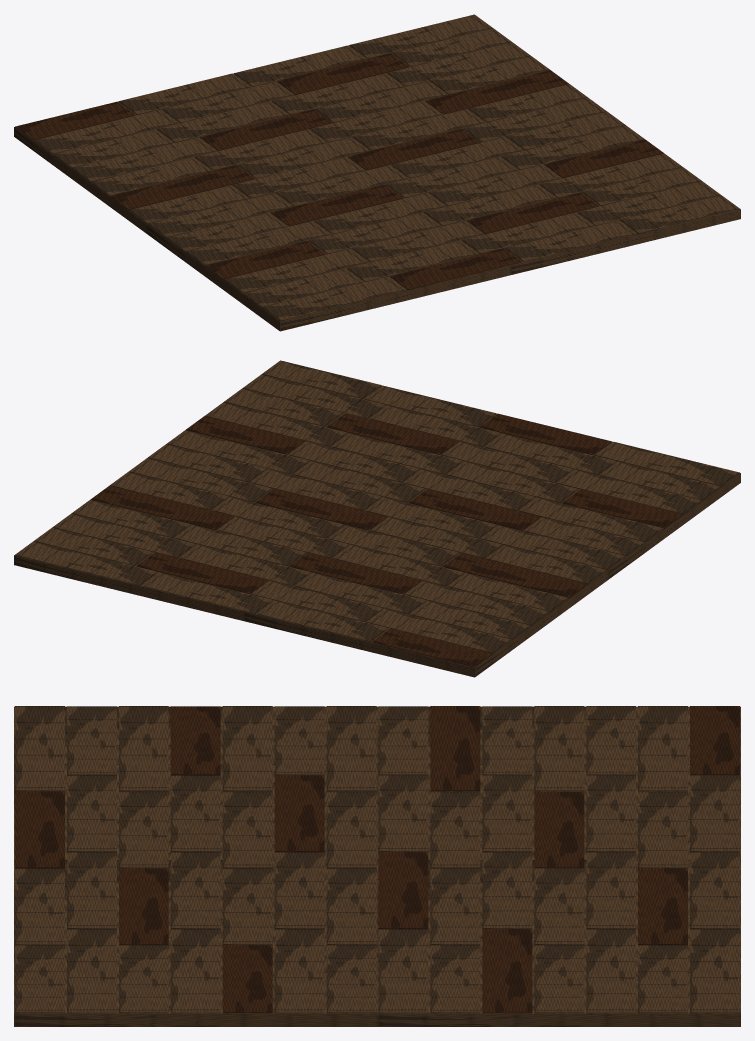
The model's file is floor_wood.glb.
3 renders of one model, top to bottom at view 1: azimuth 30°, elevation 25°; view 2: azimuth 150°, elevation 25°; view 3: azimuth 270°, elevation 25°, orthographic. The views are drawn at different scales.
Visible parts, largest first — view 1: Art_M_WoodFloor, Art_WarmWood, Floor; view 2: Art_M_WoodFloor, Art_WarmWood, Floor; view 3: Art_M_WoodFloor, Art_WarmWood, Floor.
Boxes of the visible parts, bbox=[...] form: Art_M_WoodFloor: bbox=[34, 14, 739, 321]; Art_WarmWood: bbox=[15, 53, 663, 289]; Floor: bbox=[14, 44, 740, 331]; Art_M_WoodFloor: bbox=[15, 360, 739, 653]; Art_WarmWood: bbox=[91, 413, 682, 667]; Floor: bbox=[14, 374, 740, 677]; Art_M_WoodFloor: bbox=[15, 706, 739, 1013]; Art_WarmWood: bbox=[15, 706, 739, 1013]; Floor: bbox=[14, 706, 740, 1026].
Size of what is drawn, in the model's own units: 4 by 0.088 by 4.
4 materials, 3 textured.
